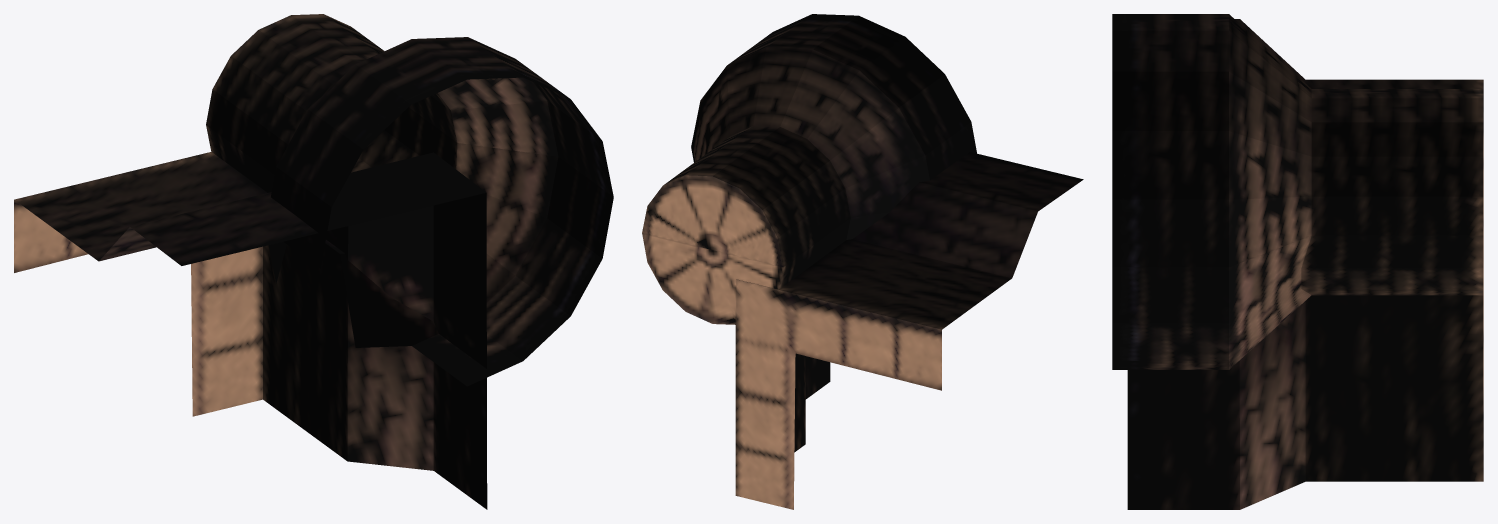
Rendered from ex_2ColumnCorner0.obj.
3 views of the same model, side by side, from view 1: azimuth 30°, elevation 25°; view 2: azimuth 150°, elevation 25°; view 3: azimuth 270°, elevation 25° (orthographic). The views are drawn at different scales.
Visible parts, largest first — view 1: ex_Column0.003_Cylind; view 2: ex_Column0.003_Cylind; view 3: ex_Column0.003_Cylind.
Part boxes in pixels (box(x1,y1,x2,y2)): ex_Column0.003_Cylind: box(14, 14, 613, 509); ex_Column0.003_Cylind: box(642, 14, 1083, 509); ex_Column0.003_Cylind: box(1112, 14, 1483, 509).
Size of the model in its own units: 197 by 196 by 142.
